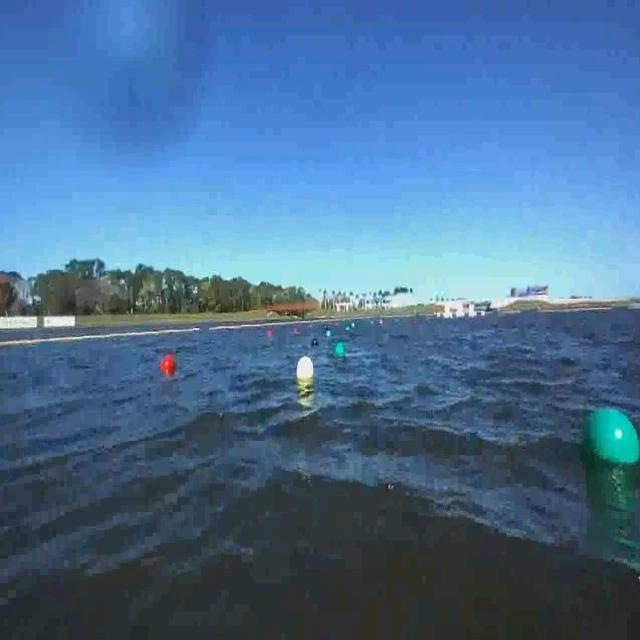black-buoy: (309, 337, 317, 349)
green-buoy: (578, 404, 640, 470), (336, 340, 347, 360)
red-buoy: (160, 354, 175, 376)
yellow-buoy: (295, 356, 314, 389)
